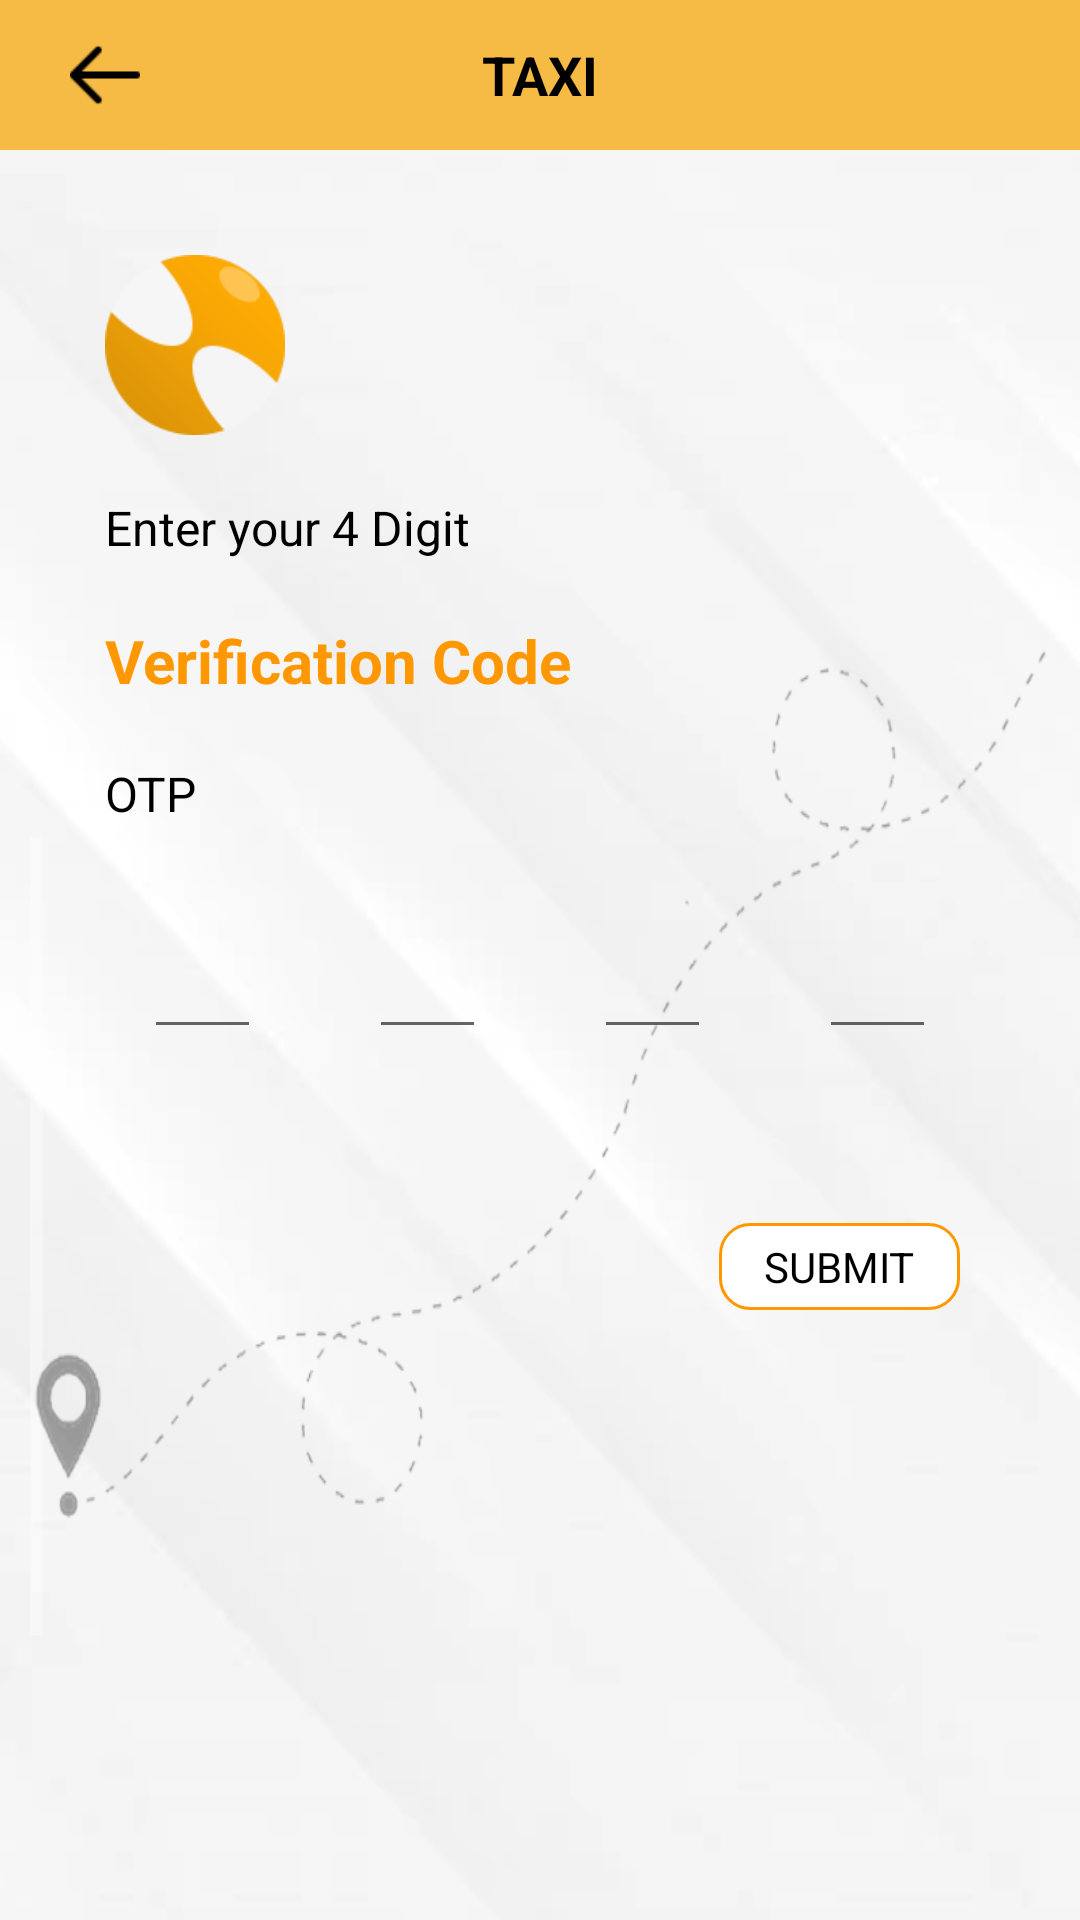

Named icons in this screenshot (1080w x 1920h) and their centers, (x=x, y=y):
back: (x=105, y=75)
